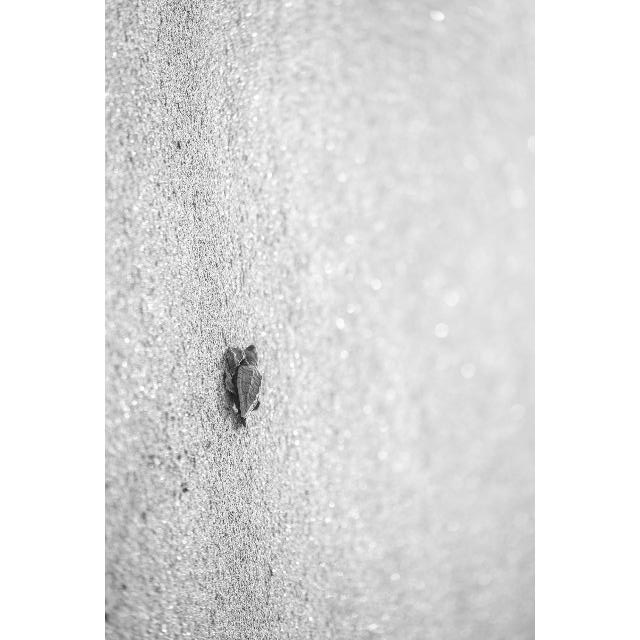turtle: (220, 344, 263, 424)
